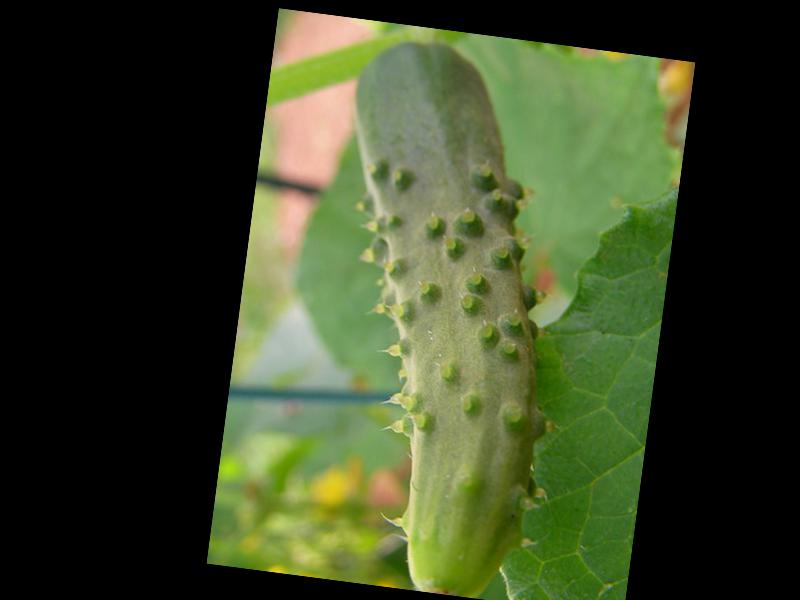Cucumber: (294, 31, 593, 600)
